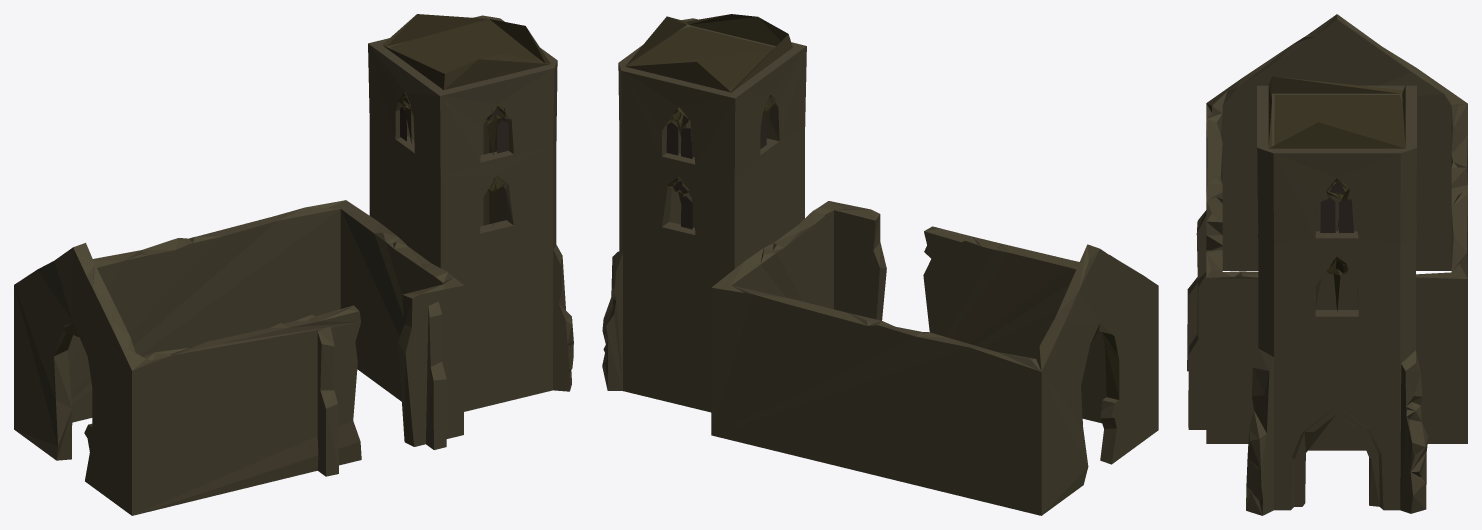
The model's file is church-ruins.lod2.glb.
3 renders of one model, left to right at view 1: azimuth 30°, elevation 25°; view 2: azimuth 150°, elevation 25°; view 3: azimuth 270°, elevation 25°, orthographic. The views are drawn at different scales.
Visible parts, largest first — view 1: Object_4; view 2: Object_4; view 3: Object_4.
Part boxes in pixels (x1,y1,x2,y2): Object_4: [14, 14, 573, 515]; Object_4: [602, 14, 1158, 515]; Object_4: [1187, 14, 1467, 515].
Size of the model in its own units: 18.3 by 12.88 by 8.57.
